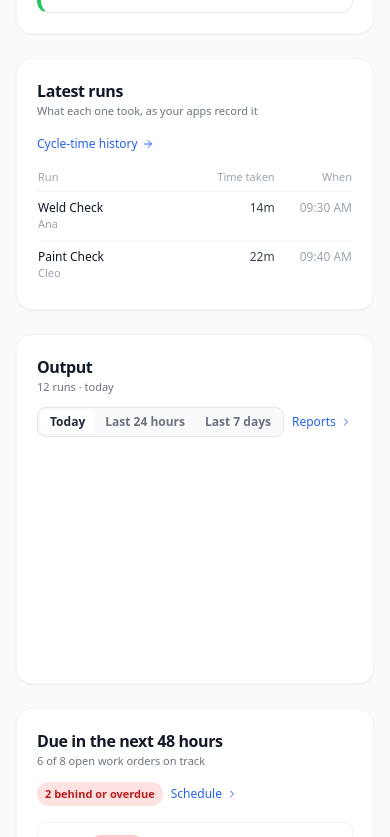
Scenario: the Output chart answers the same question as the tile above it › labels any other range, and totals that one instead
The width and height of the screenshot is (390, 837).
(page scrolled)
Expected: the text "12 runs · today" is shown, x1=37 y1=378 x2=114 y2=395
Step 1. Click the button "Last 24 hours" → (145, 422), box x1=95 y1=410 x2=195 y2=434
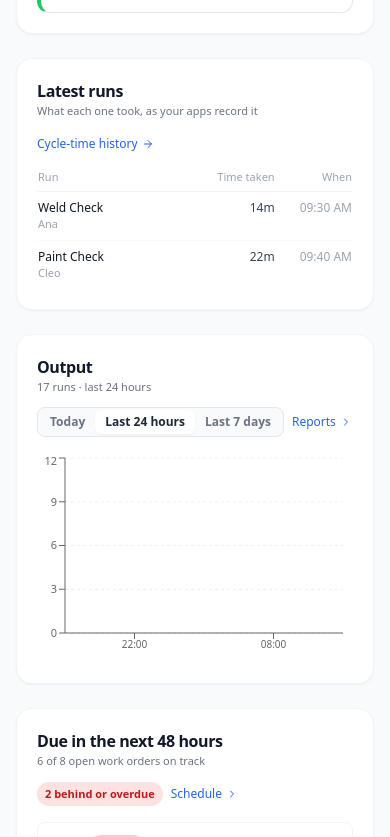
Result: the text with test id "output-total" reads "17 runs · last 24 hours" at x1=37 y1=378 x2=151 y2=395
Step 2. Click the button "Last 7 days" → (238, 422), box x1=195 y1=410 x2=281 y2=434
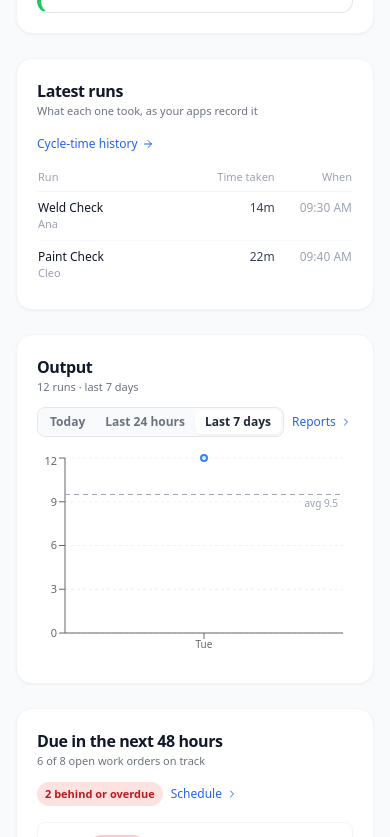
Result: the text with test id "output-total" reads "12 runs · last 7 days" at x1=37 y1=378 x2=139 y2=395
